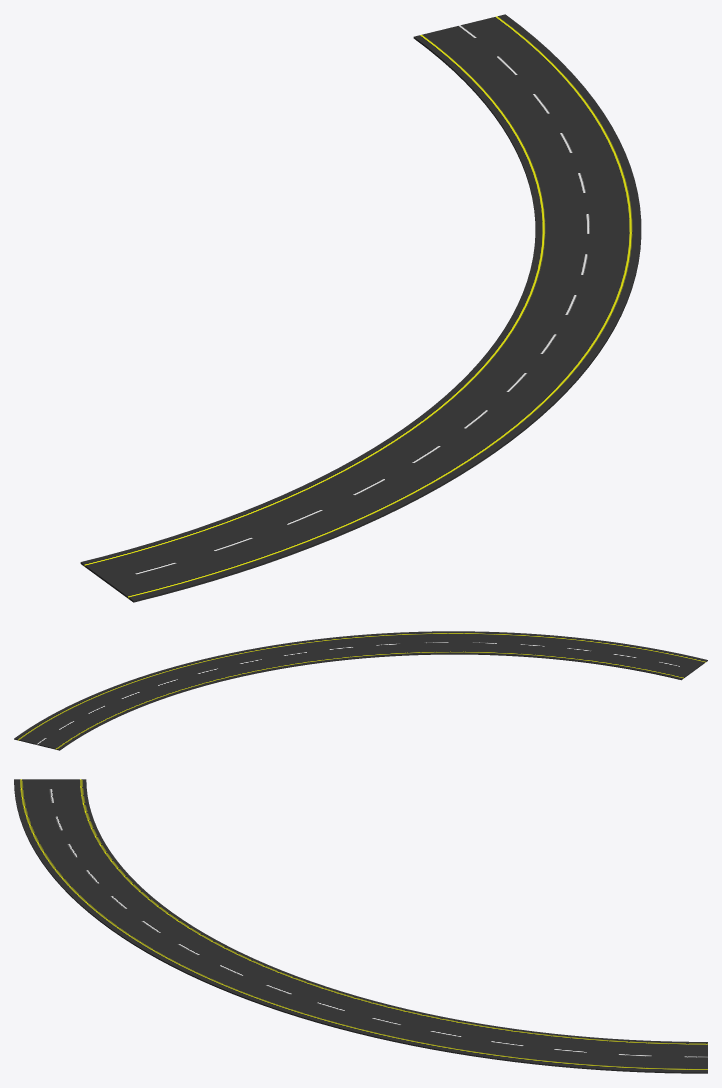
The model's file is curved_road_100m.dae.
3 views of the same model, one above another, from view 1: azimuth 30°, elevation 25°; view 2: azimuth 150°, elevation 25°; view 3: azimuth 270°, elevation 25° (orthographic). The views are drawn at different scales.
Parts seen in each view (by area): view 1: Box001; view 2: Box001; view 3: Box001.
Part boxes in pixels (x1=…): Box001: x1=80, y1=14, x2=641, y2=602; Box001: x1=14, y1=631, x2=707, y2=750; Box001: x1=14, y1=779, x2=707, y2=1073.
Size of the model in its own units: 4152 by 4152 by 7.87.
